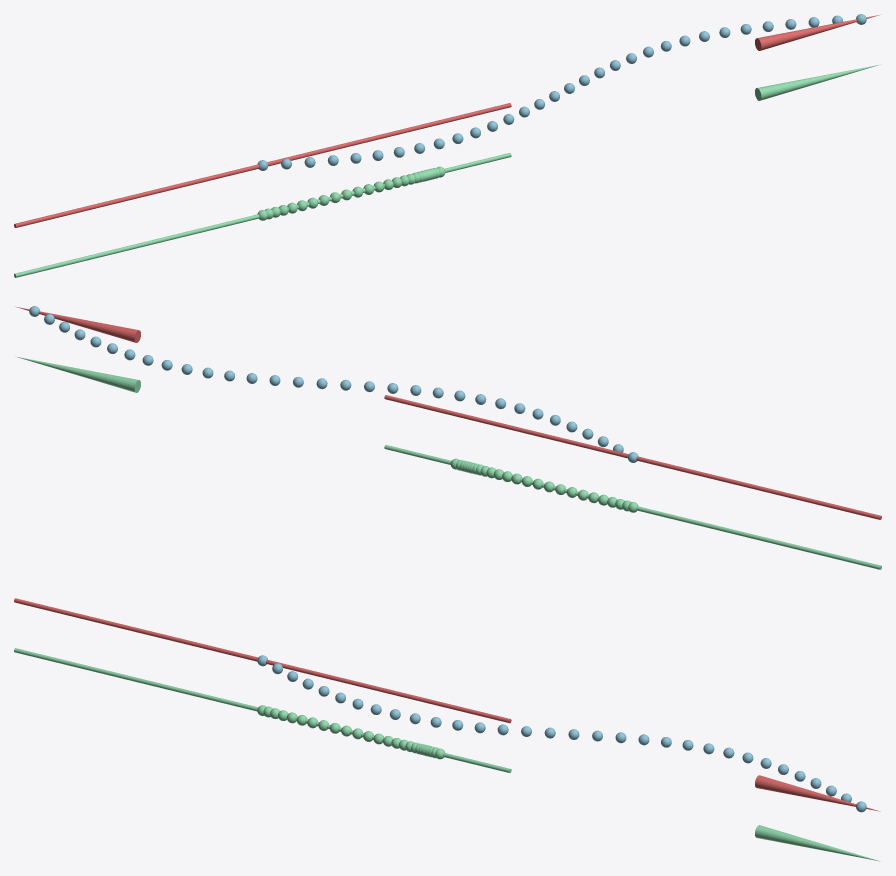
The model's file is wave_types.glb.
3 renders of one model, top to bottom at view 1: azimuth 30°, elevation 25°; view 2: azimuth 150°, elevation 25°; view 3: azimuth 330°, elevation 25°, orthographic.
Parts seen in each view (by area): view 1: world; view 2: world; view 3: world.
Part boxes in pixels (<box>): world: <box>14,14,880,277</box>; world: <box>15,306,881,569</box>; world: <box>14,598,880,861</box>.
Bounding box in the file's own units: 9.1 × 0.62 × 0.899.
